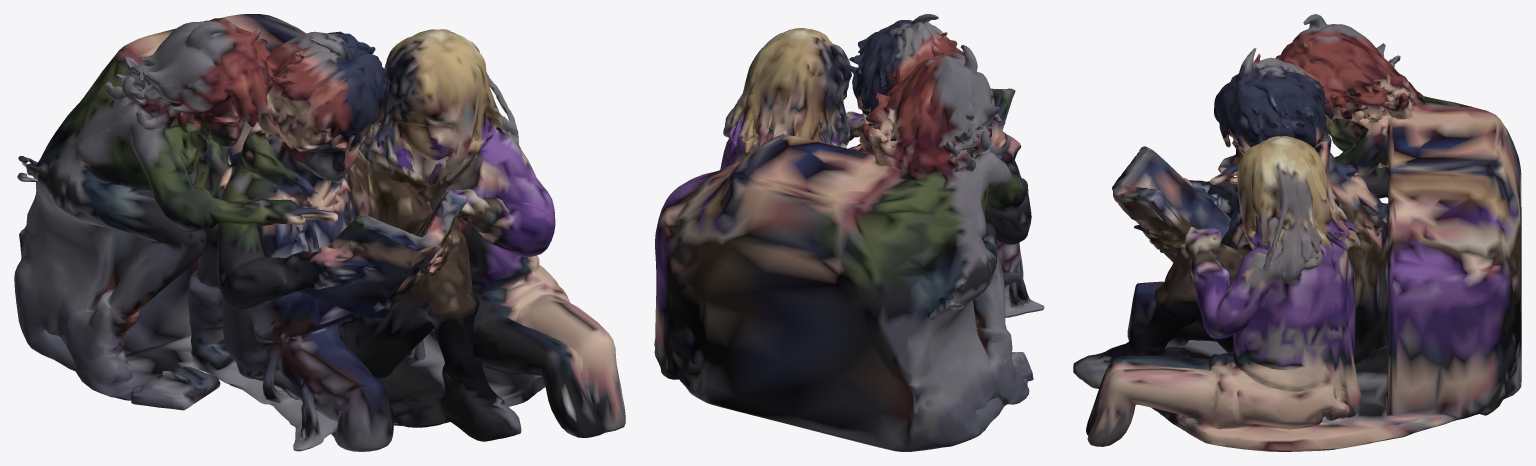
The model's file is pair.glb.
The picture shows the model from 3 angles, left to right: view 1: azimuth 30°, elevation 25°; view 2: azimuth 150°, elevation 25°; view 3: azimuth 270°, elevation 25°; orthographic projection. The views are drawn at different scales.
Visible parts, largest first — view 1: pair; view 2: pair; view 3: pair.
Part boxes in pixels (x1,y1,x2,y2): pair: (14, 14, 625, 451); pair: (654, 14, 1044, 451); pair: (1073, 14, 1521, 451).
Bounding box in the file's own units: 1.54 × 1.3 × 1.67.
